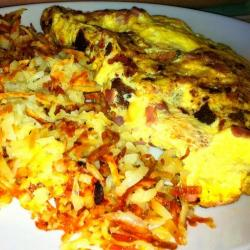omelette: (48, 5, 248, 136)
